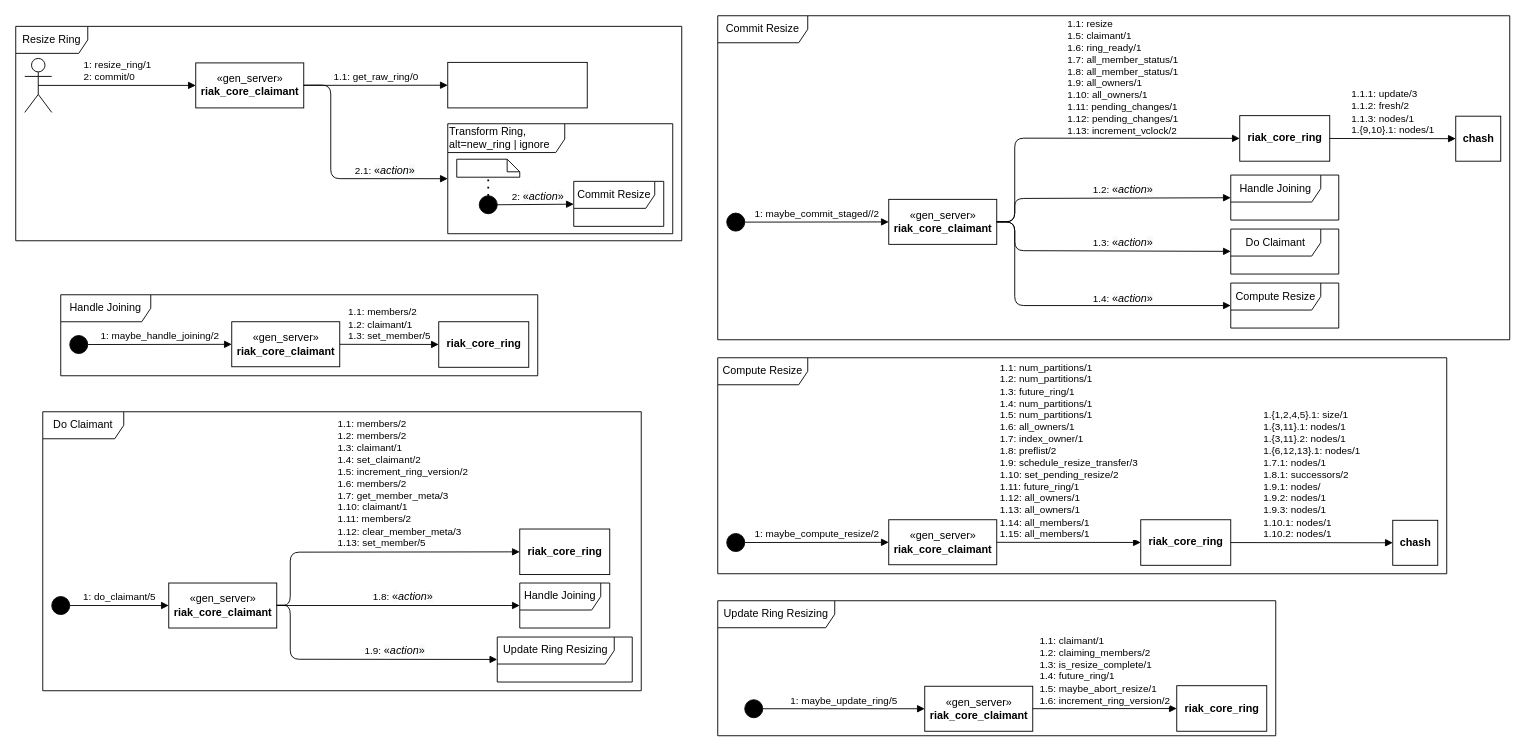
This 1526x752 diagram has some shape labels left out. Each missing label, with the centre of its shape:
Callback: the point at 488,167
«gen_server» riak_core_ring_manager: the point at 517,84
